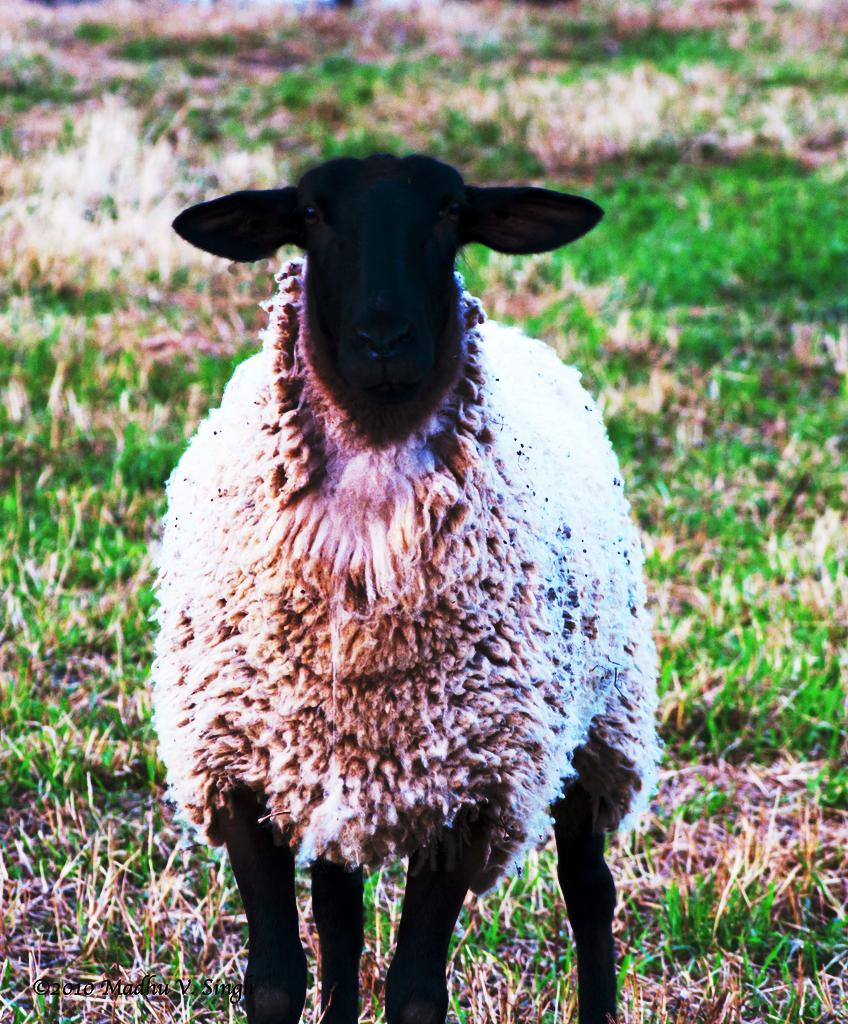Sheep: (148, 150, 666, 1024)
